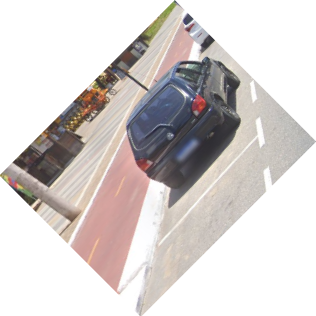car: (124, 55, 242, 191)
